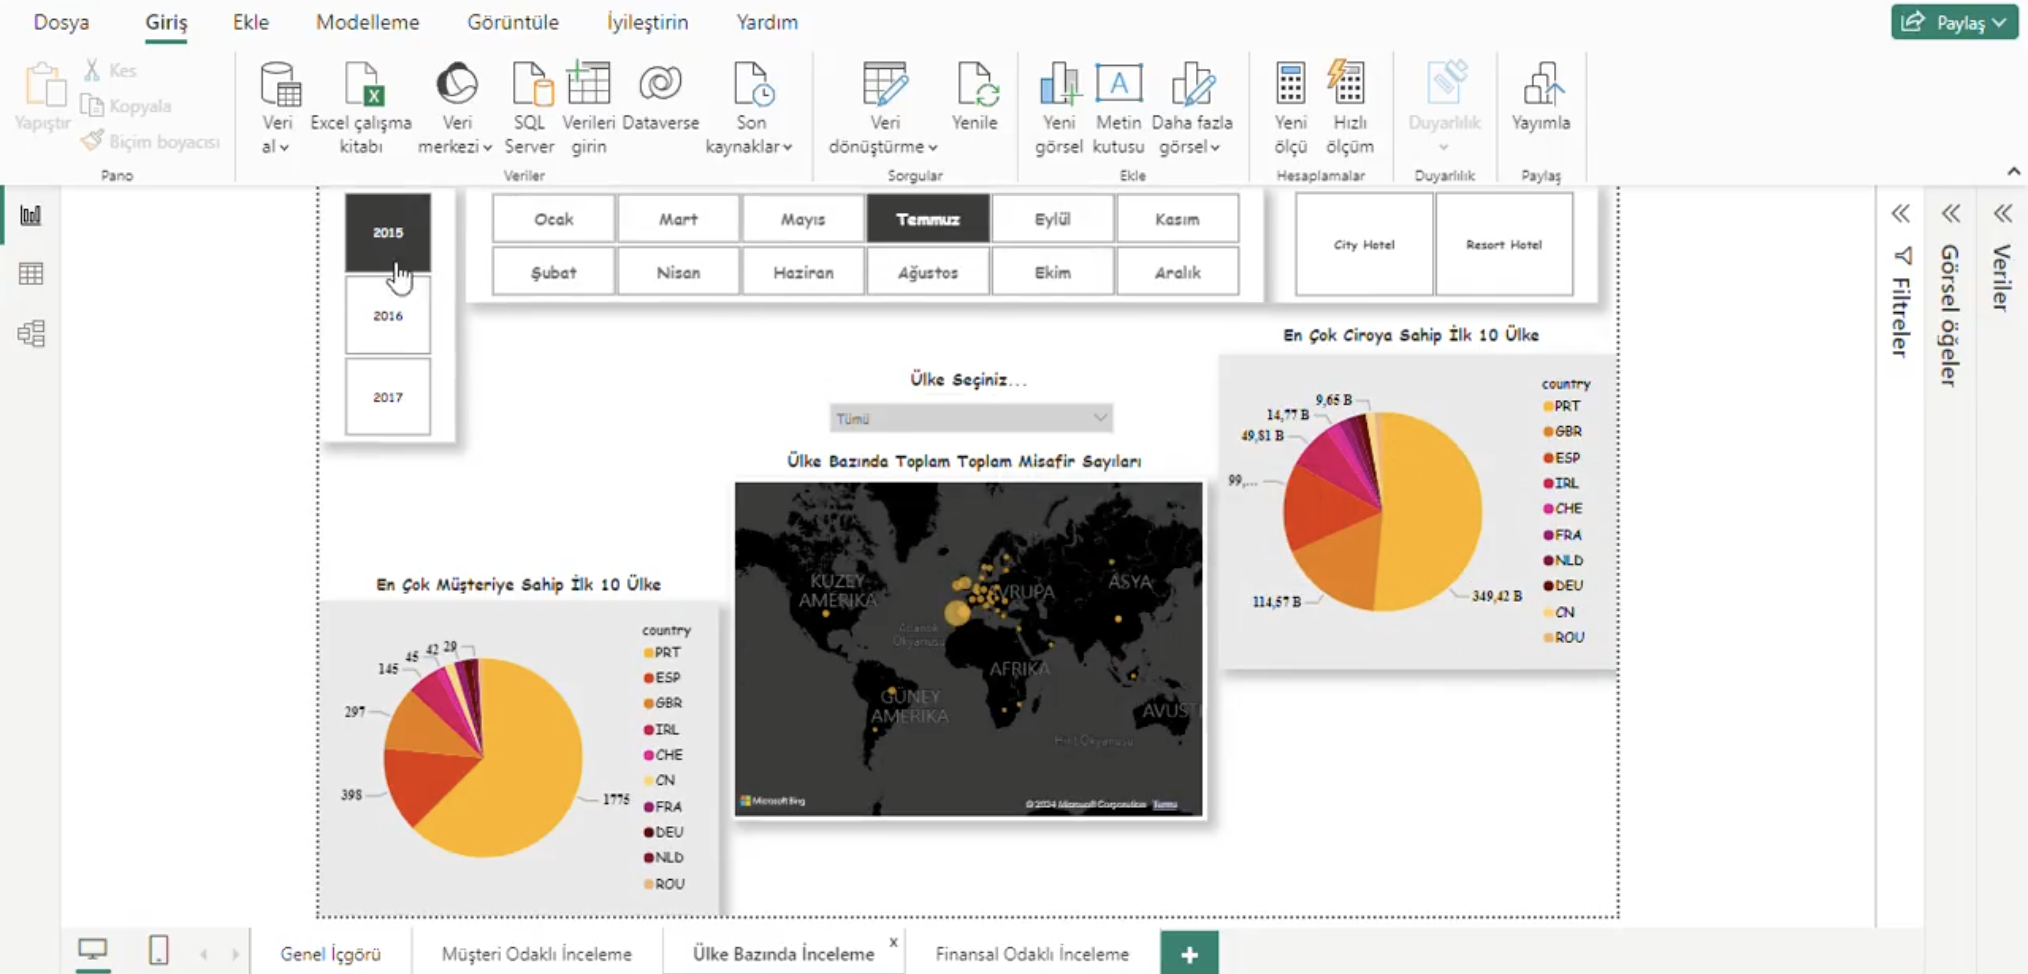

The page's visual inventory and layout, read from the dashboard file:
{"tool":"powerbi","page":{"name":"Ülke Bazında İnceleme","canvas":[1280,720],"ordinal":2},"visuals":[{"type":"textbox","box":[457.1,254,387.3,46],"z":0},{"type":"textbox","box":[577.8,174.6,150.8,41.3],"z":1000},{"type":"slicer","fields":{"Values":["hotel_bookings.country"]},"box":[493.7,204.8,300,47.6],"z":2000},{"type":"actionButton","box":[0,0,100,40],"z":3000},{"type":"map","fields":{"Category":["hotel_bookings.country"],"Size":["DAX.Toplam misafir sayısı"]},"box":[404.8,288.9,469.8,338.1],"z":4000},{"type":"textbox","box":[946,130.2,273,44.4],"z":5000},{"type":"textbox","box":[50.8,376.2,314.3,44.4],"z":6000},{"type":"pieChart","fields":{"Category":["hotel_bookings.country"],"Y":["DAX.Toplam Ciro"]},"box":[886.8,166.8,393.7,310.2],"z":7000},{"type":"pieChart","fields":{"Category":["hotel_bookings.country"],"Y":["DAX.Toplam misafir sayısı"]},"box":[0,409.5,393.7,309.5],"z":8000},{"type":"slicer","fields":{"Values":["hotel_bookings.hotel"]},"box":[936.5,0,323.8,115.9],"z":9000},{"type":"slicer","fields":{"Values":["hotel_bookings.Arrival_date.Varyasyon.Tarih Hiyerarşisi.Yıl"]},"box":[0,1.5,134.3,252.2],"z":10000},{"type":"slicer","fields":{"Values":["hotel_bookings.Arrival_date.Varyasyon.Tarih Hiyerarşisi.Ay"]},"box":[144.4,1.6,785.7,114.3],"z":11000}]}

Visuals, with their boxes on the page's 1280x720 design canvas (x1, y1, x2, y2). These are canvas units, not pixel positions in the 2028x974 screenshot, which may show the page scaled, cropped or inside an application window:
textbox: left=457, top=254, right=844, bottom=300
textbox: left=578, top=175, right=729, bottom=216
slicer - hotel_bookings.country: left=494, top=205, right=794, bottom=252
actionButton: left=0, top=0, right=100, bottom=40
map - hotel_bookings.country x DAX.Toplam misafir sayısı: left=405, top=289, right=875, bottom=627
textbox: left=946, top=130, right=1219, bottom=175
textbox: left=51, top=376, right=365, bottom=421
pieChart - hotel_bookings.country x DAX.Toplam Ciro: left=887, top=167, right=1280, bottom=477
pieChart - hotel_bookings.country x DAX.Toplam misafir sayısı: left=0, top=410, right=394, bottom=719
slicer - hotel_bookings.hotel: left=936, top=0, right=1260, bottom=116
slicer - hotel_bookings.Arrival_date.Varyasyon.Tarih Hiyerarşisi.Yıl: left=0, top=2, right=134, bottom=254
slicer - hotel_bookings.Arrival_date.Varyasyon.Tarih Hiyerarşisi.Ay: left=144, top=2, right=930, bottom=116
